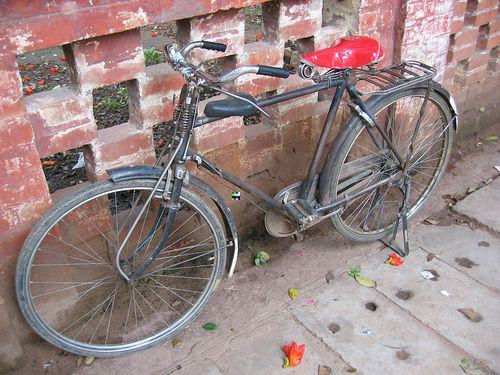car: (11, 34, 461, 359)
